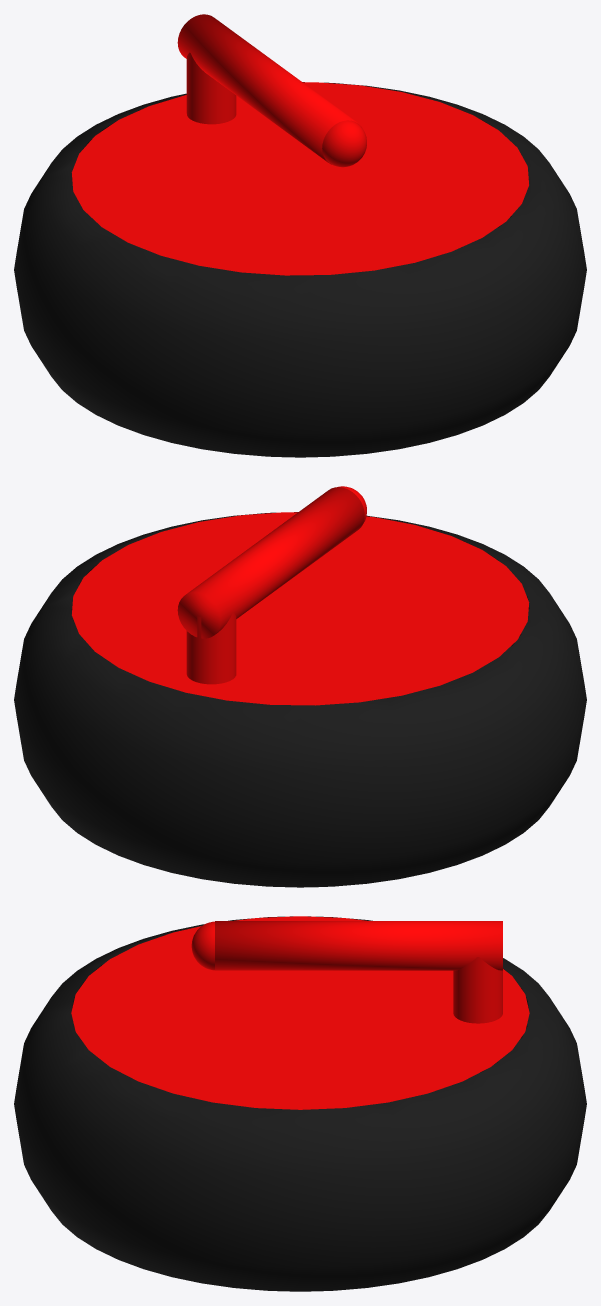
File: rock-red.obj
The picture shows the model from 3 angles, top to bottom: view 1: azimuth 30°, elevation 25°; view 2: azimuth 150°, elevation 25°; view 3: azimuth 270°, elevation 25°; orthographic projection.
Visible parts, largest first — view 1: rock; view 2: rock; view 3: rock.
Boxes of the visible parts, x1=… form: rock: x1=14, y1=14, x2=586, y2=457; rock: x1=14, y1=486, x2=586, y2=887; rock: x1=14, y1=916, x2=586, y2=1291.
Bounding box in the file's own units: 0.2996 × 0.1568 × 0.2996.
